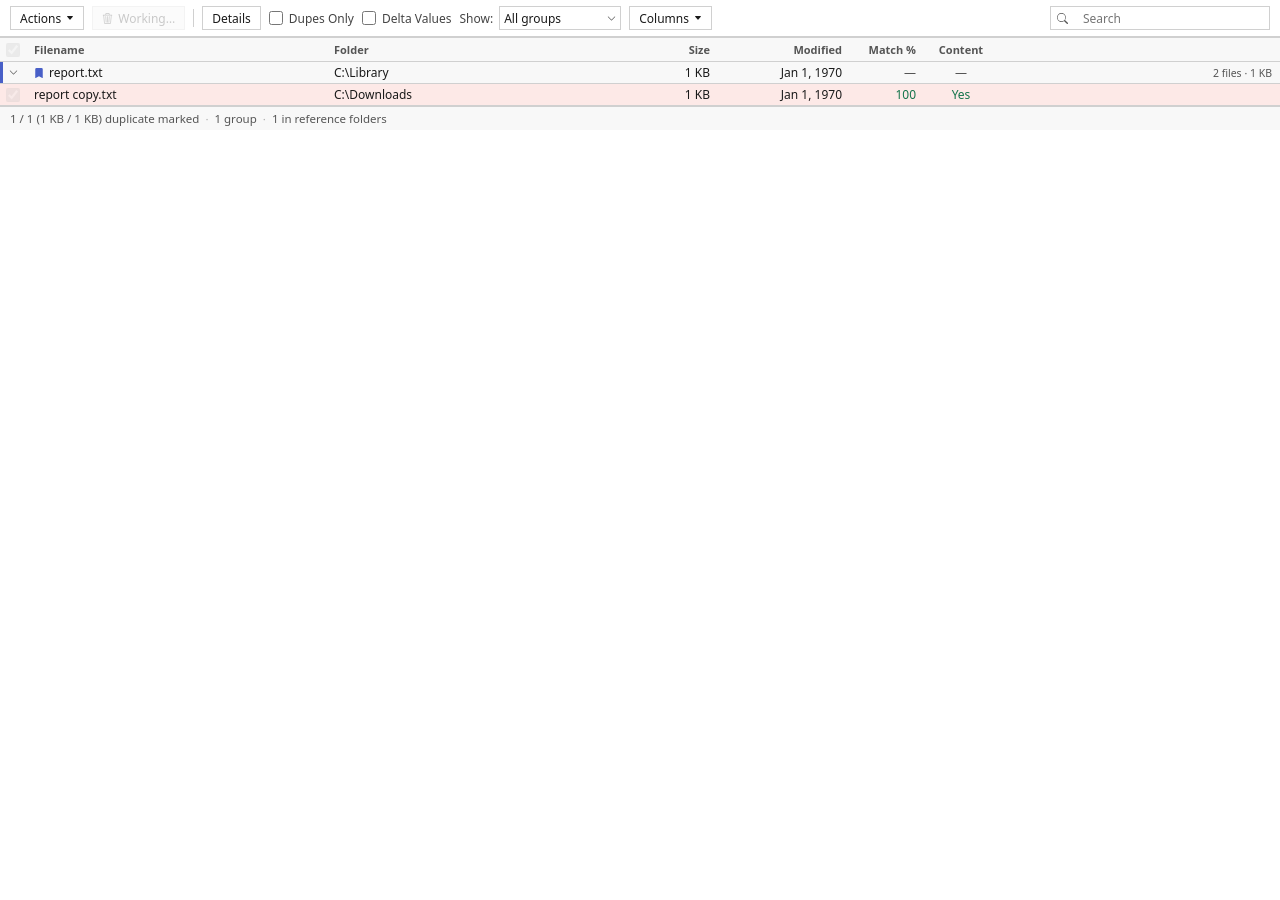
Test: DuplicatesResults review workflow › freezes file actions while an action is pending
Expected: the button "Working…" is disabled, left=92, top=6, right=185, bottom=30
Click the button "Actions" at [47, 18], box left=10, top=6, right=84, bottom=30
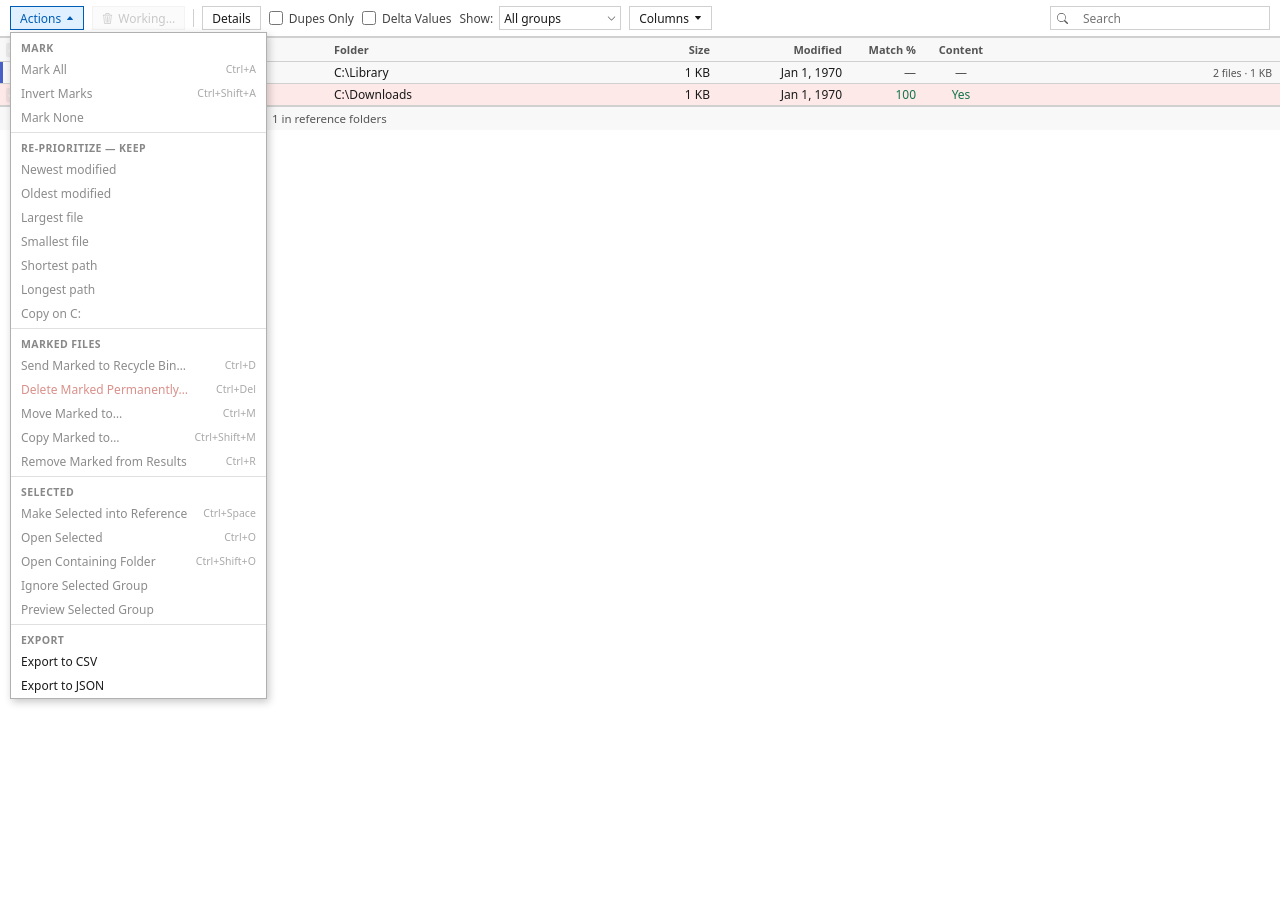
Result: the button "Move Marked to… Ctrl+M" is disabled at left=11, top=401, right=266, bottom=425
Result: the button "Mark All Ctrl+A" is disabled at left=11, top=57, right=266, bottom=81
